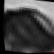correct: (1, 3, 54, 54)
